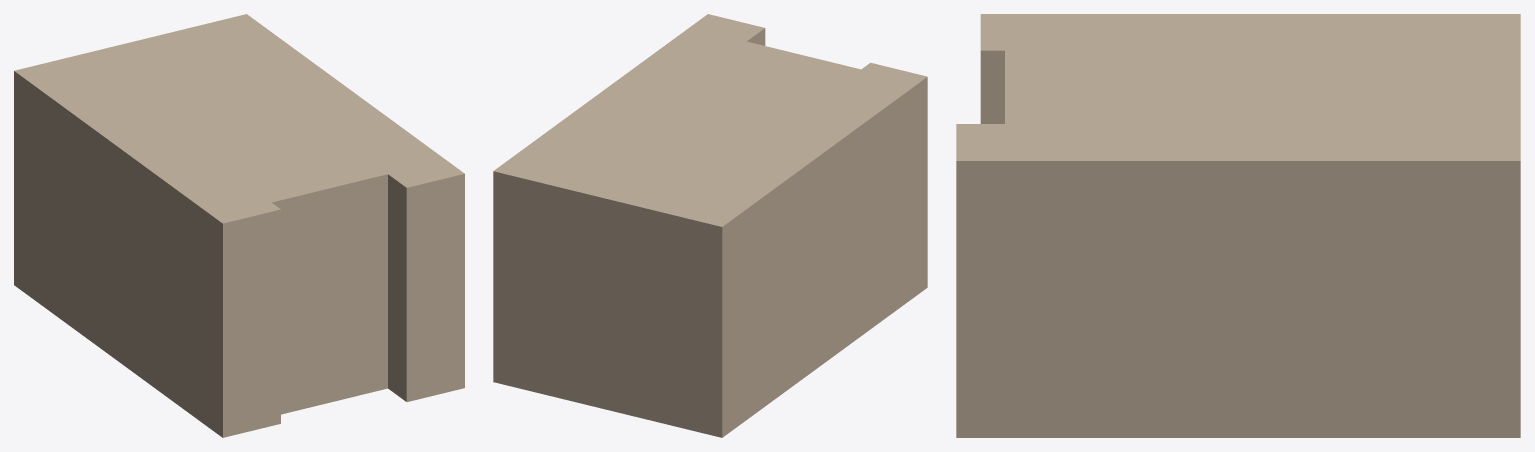
Rendered from massing.glb.
3 renders of one model, left to right at view 1: azimuth 30°, elevation 25°; view 2: azimuth 150°, elevation 25°; view 3: azimuth 270°, elevation 25°, orthographic. The views are drawn at different scales.
Visible parts, largest first — view 1: building/exterior; view 2: building/exterior; view 3: building/exterior.
Part boxes in pixels (<box>): building/exterior: <box>14,14,464,437</box>; building/exterior: <box>493,14,927,437</box>; building/exterior: <box>956,14,1520,437</box>.
Bounding box in the file's own units: 10 × 8.8 × 16.24.
